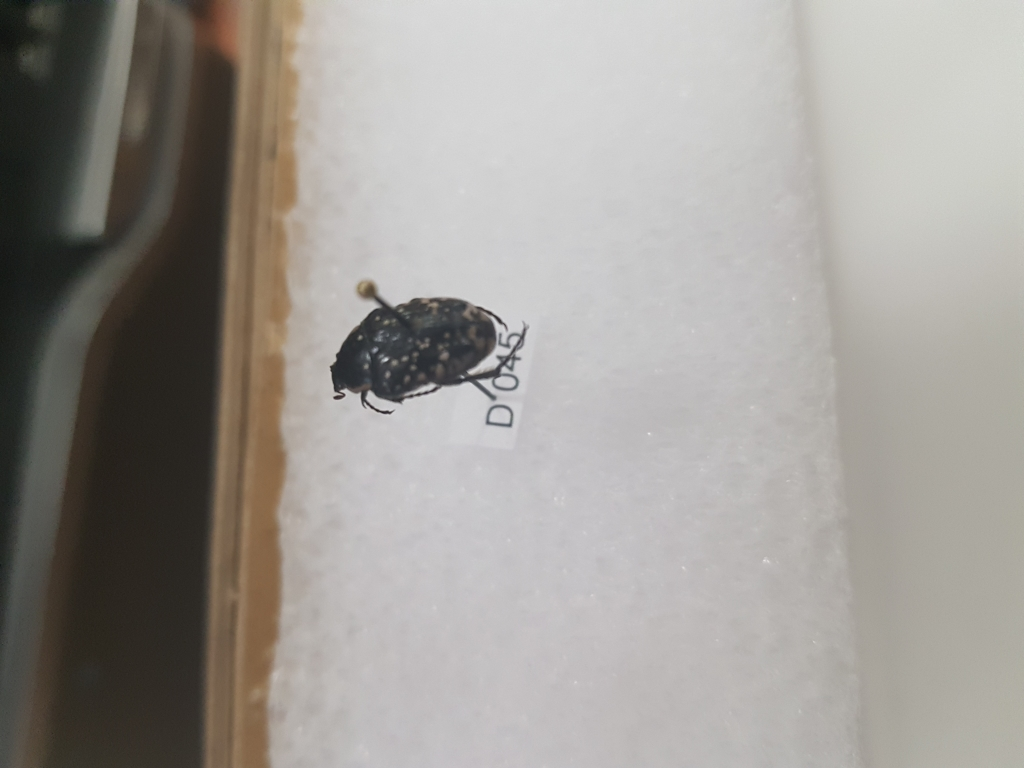Oxythyrea_cinctella: (313, 295, 533, 410)
